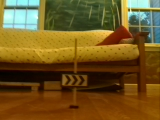right: (61, 73, 90, 88)
